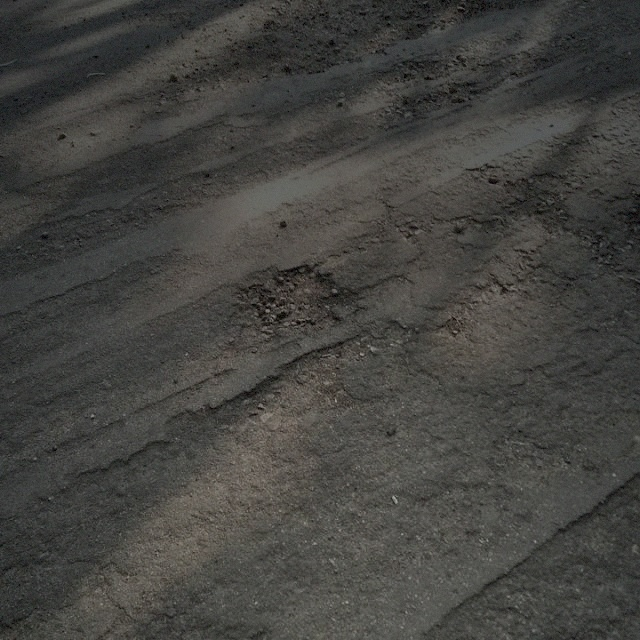pothole: (233, 260, 359, 332)
